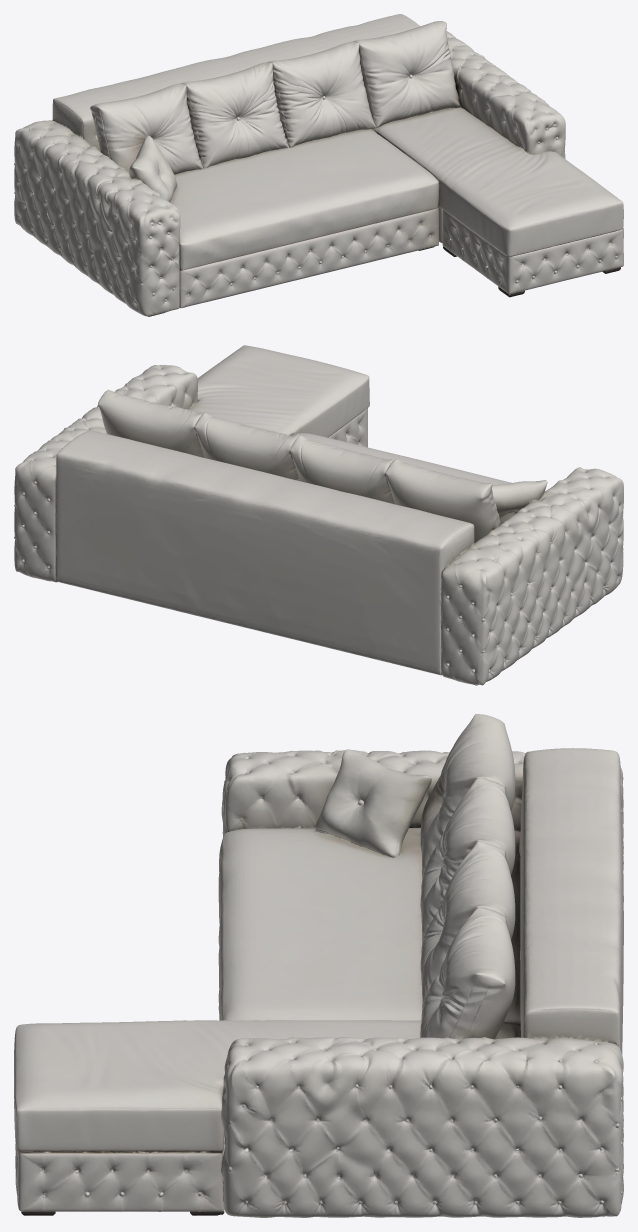
The model's file is Versal.glb.
3 views of the same model, one above another, from view 1: azimuth 30°, elevation 25°; view 2: azimuth 150°, elevation 25°; view 3: azimuth 270°, elevation 25° (orthographic). The views are drawn at different scales.
Visible parts, largest first — view 1: tripo_node_aa6268dd-0165-4ca9-9cf4-1fb261efc051; view 2: tripo_node_aa6268dd-0165-4ca9-9cf4-1fb261efc051; view 3: tripo_node_aa6268dd-0165-4ca9-9cf4-1fb261efc051.
Part boxes in pixels (left/top/right/bottom): tripo_node_aa6268dd-0165-4ca9-9cf4-1fb261efc051: left=14, top=14, right=623, bottom=316; tripo_node_aa6268dd-0165-4ca9-9cf4-1fb261efc051: left=14, top=345, right=623, bottom=685; tripo_node_aa6268dd-0165-4ca9-9cf4-1fb261efc051: left=14, top=714, right=623, bottom=1217.
Size of the model in its own units: 0.9799 by 0.3201 by 0.7819.
1 material, 1 textured.
